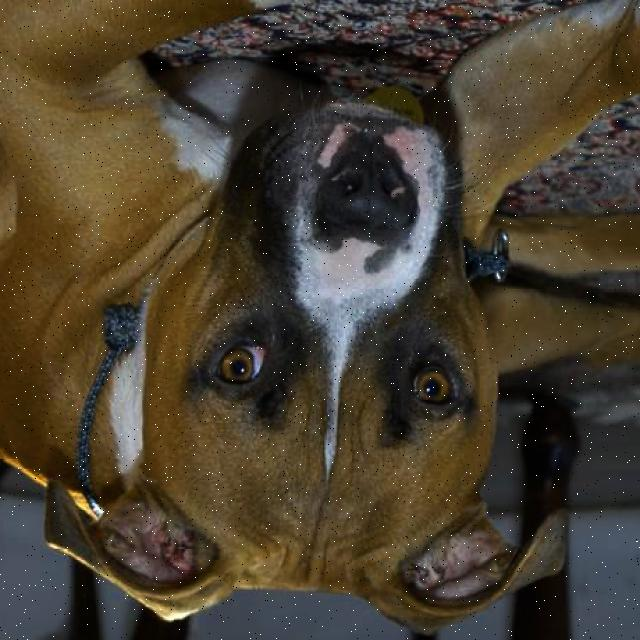Dog: (36, 81, 569, 640)
